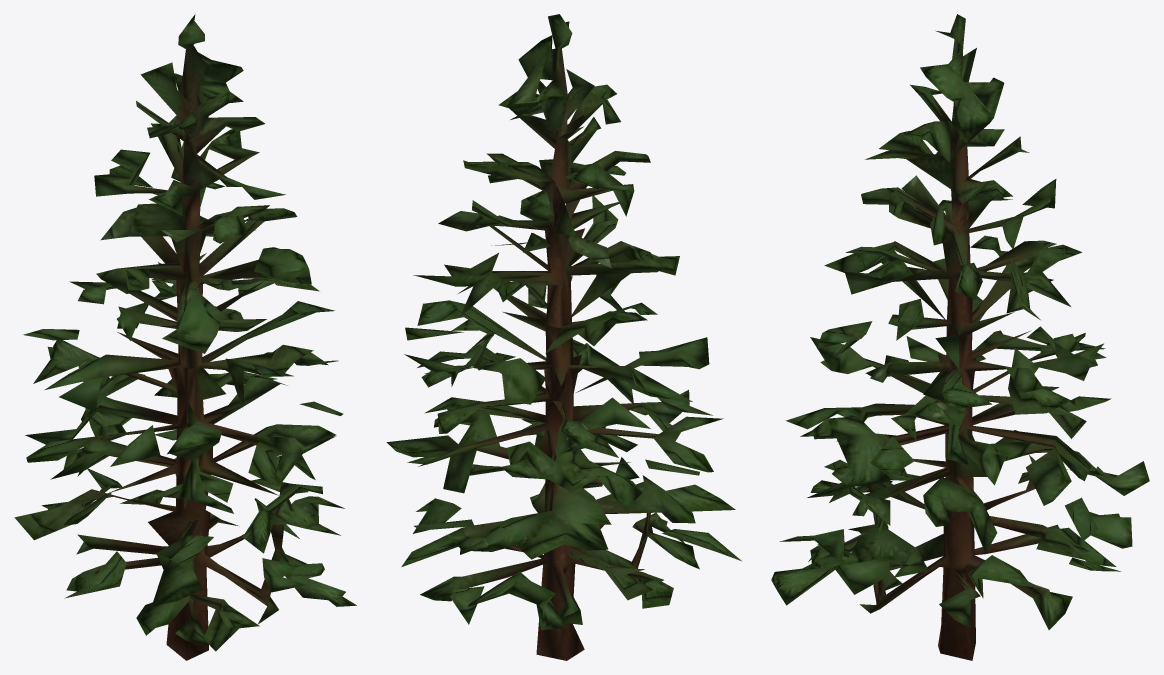
Rendered from tree0.glb.
3 views of the same model, side by side, from view 1: azimuth 30°, elevation 25°; view 2: azimuth 150°, elevation 25°; view 3: azimuth 270°, elevation 25° (orthographic).
Visible parts, largest first — view 1: tripo_node_4ed25e94-a82f-46a5-b888-172c2c2e21be; view 2: tripo_node_4ed25e94-a82f-46a5-b888-172c2c2e21be; view 3: tripo_node_4ed25e94-a82f-46a5-b888-172c2c2e21be.
Boxes of the visible parts, x1,y1,x2,y2 form: tripo_node_4ed25e94-a82f-46a5-b888-172c2c2e21be: [14, 14, 356, 660]; tripo_node_4ed25e94-a82f-46a5-b888-172c2c2e21be: [386, 14, 742, 660]; tripo_node_4ed25e94-a82f-46a5-b888-172c2c2e21be: [771, 14, 1149, 660].
Bounding box in the file's own units: 0.4935 × 1 × 0.5369.
1 material, 1 textured.
